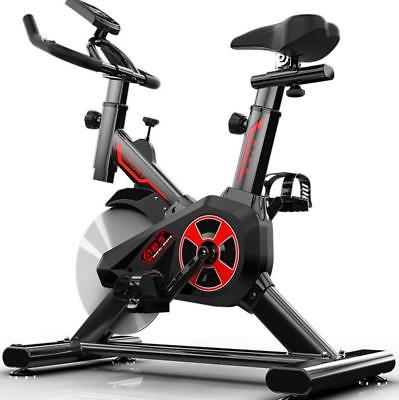gym_bike: (16, 1, 394, 395)
